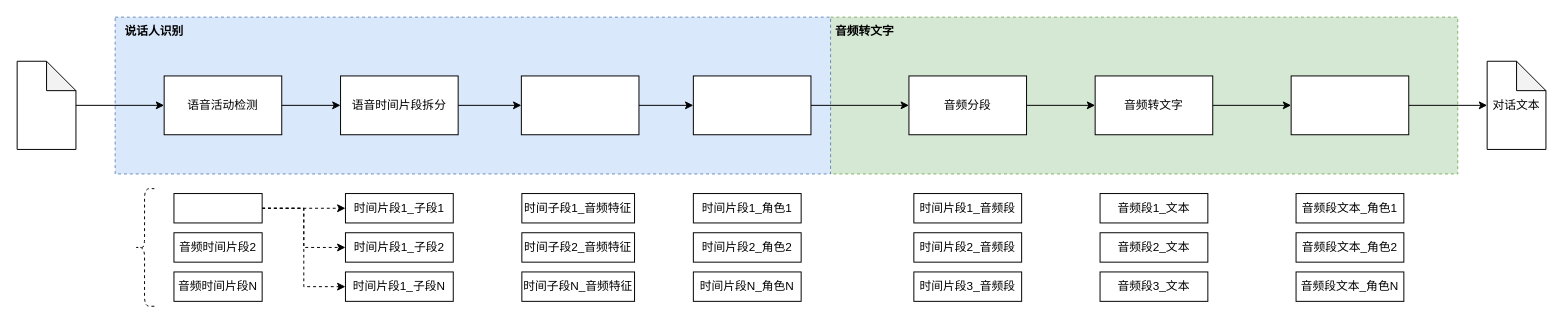
The diagram is 1563 pixels wide and 323 high, and some of its shapes have lost their labels. Here are the shapes that lost their labels. From the top down, the centre of each, then its label:
At point 46,104: "音频文件".
At point 579,105: "提取说话人特征".
At point 751,105: "说话人聚类识别".
At point 1349,105: "映射文本角色关系".
At point 217,208: "音频时间片段1".
